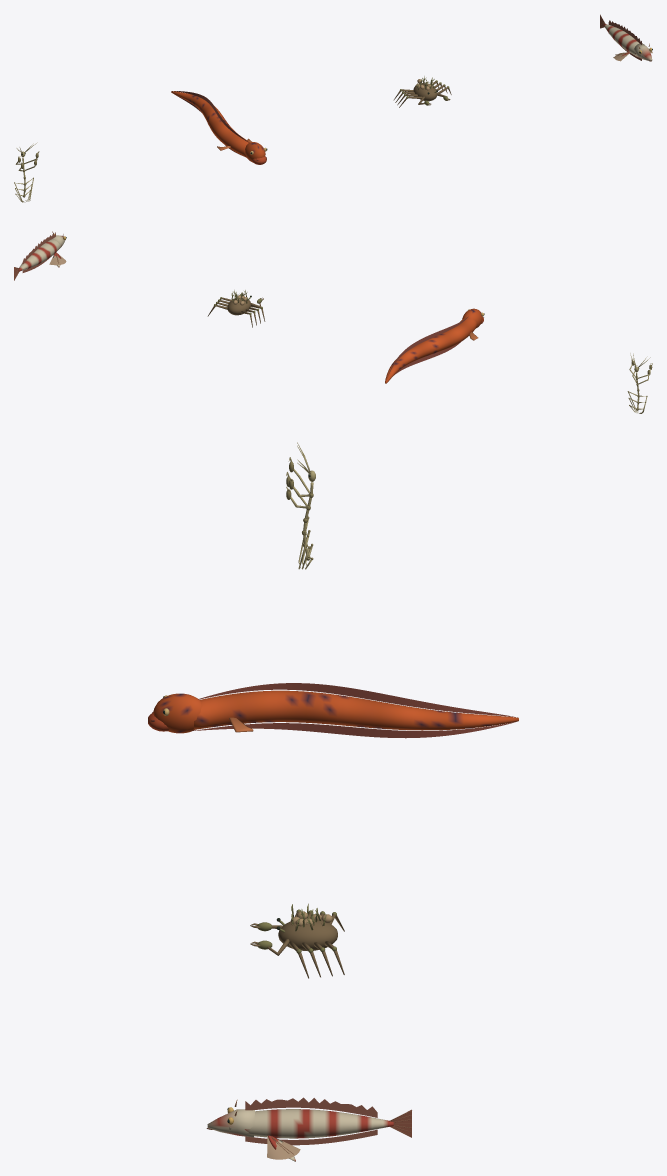
The model's file is wreck-minis.glb.
The picture shows the model from 3 angles, top to bottom: view 1: azimuth 30°, elevation 25°; view 2: azimuth 150°, elevation 25°; view 3: azimuth 270°, elevation 25°; orthographic projection. The views are drawn at different scales.
Parts seen in each view (by area): view 1: Juvenile_Wolf_Eel, Painted_Greenling, Decorator_Crab, Skeleton_Shrimp; view 2: Juvenile_Wolf_Eel, Painted_Greenling, Decorator_Crab, Skeleton_Shrimp; view 3: Juvenile_Wolf_Eel, Painted_Greenling, Decorator_Crab, Skeleton_Shrimp.
Boxes of the visible parts, x1,y1,x2,y2 form: Juvenile_Wolf_Eel: [171, 91, 267, 164]; Painted_Greenling: [600, 14, 652, 61]; Decorator_Crab: [393, 76, 451, 107]; Skeleton_Shrimp: [14, 142, 39, 202]; Juvenile_Wolf_Eel: [385, 308, 484, 383]; Painted_Greenling: [14, 231, 66, 280]; Decorator_Crab: [207, 290, 265, 327]; Skeleton_Shrimp: [627, 353, 652, 413]; Juvenile_Wolf_Eel: [148, 683, 518, 738]; Painted_Greenling: [206, 1097, 411, 1161]; Decorator_Crab: [250, 903, 344, 978]; Skeleton_Shrimp: [286, 442, 315, 569].
Bounding box in the file's own units: 2.2 × 0.1926 × 0.5648.
